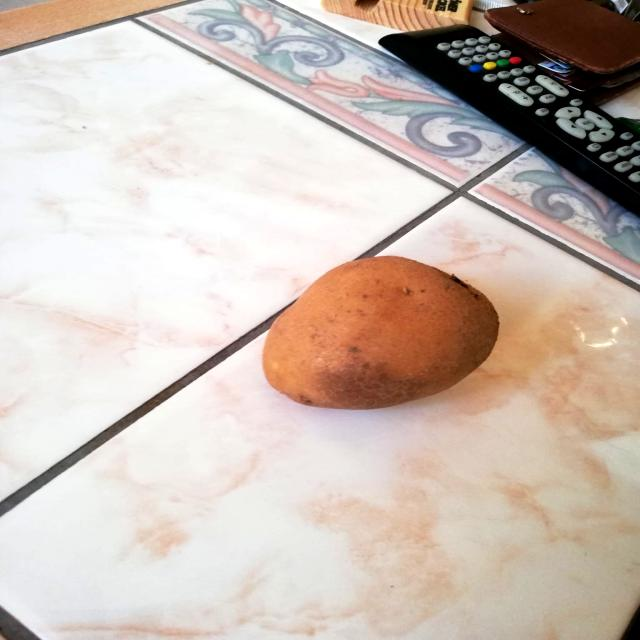potato: (257, 253, 507, 414)
